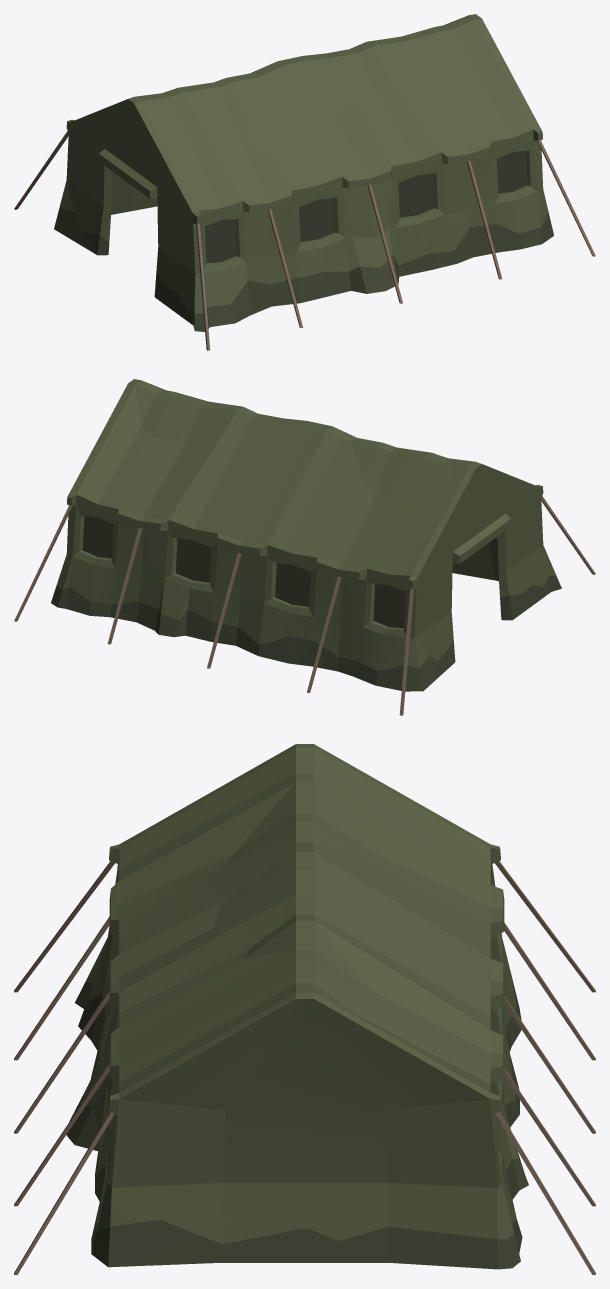
The model's file is Tent.fbx.
3 renders of one model, top to bottom at view 1: azimuth 30°, elevation 25°; view 2: azimuth 150°, elevation 25°; view 3: azimuth 270°, elevation 25°, orthographic. The views are drawn at different scales.
Visible parts, largest first — view 1: SM_Bld_Tent_01; view 2: SM_Bld_Tent_01; view 3: SM_Bld_Tent_01.
Part boxes in pixels (box(x1,y1,x2,y2)): SM_Bld_Tent_01: box(14, 14, 595, 350); SM_Bld_Tent_01: box(14, 379, 595, 715); SM_Bld_Tent_01: box(14, 744, 595, 1274).
Size of the model in its own units: 897 by 387 by 776.
